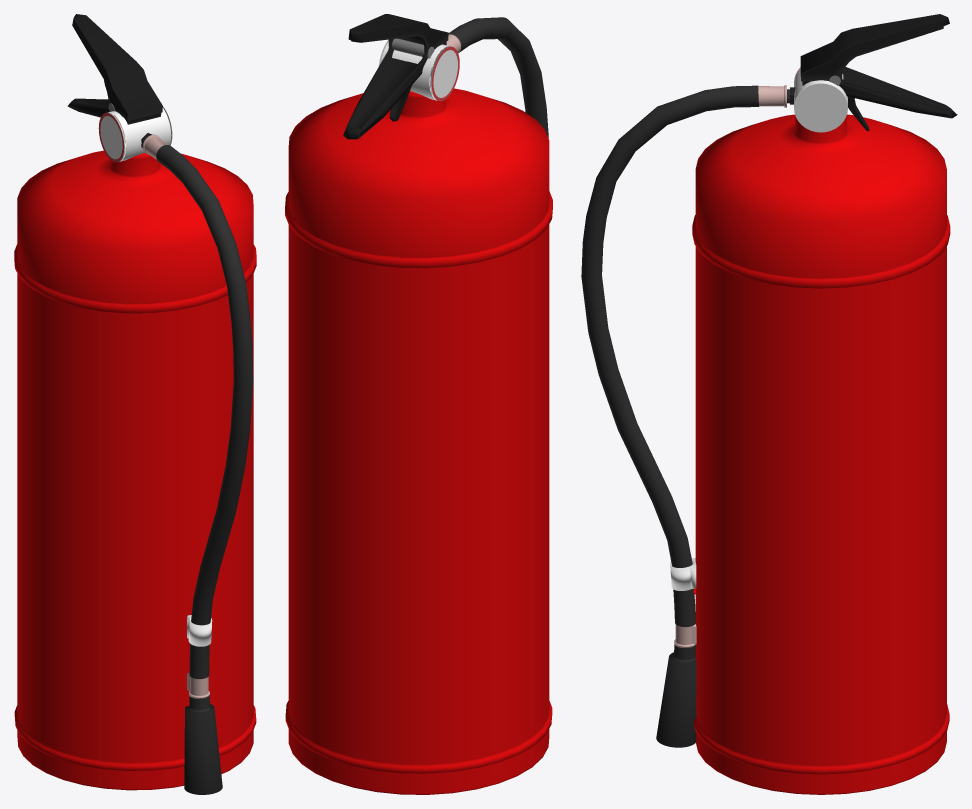
File: alat_pemadam.glb
3 renders of one model, left to right at view 1: azimuth 30°, elevation 25°; view 2: azimuth 150°, elevation 25°; view 3: azimuth 270°, elevation 25°, orthographic. The views are drawn at different scales.
Visible parts, largest first — view 1: Cylinder, Cylinder.002, Cube.001, Cylinder.001, Cylinder.004; view 2: Cylinder, Cube.001, Cylinder.002, Cylinder.004, Cylinder.001, Cylinder.003; view 3: Cylinder, Cylinder.002, Cube.001, Cylinder.005.
Part boxes in pixels (x1,y1,x2,y2): Cylinder: (14,150,256,790); Cylinder.002: (141,133,253,794); Cube.001: (67,14,162,124); Cylinder.001: (107,108,171,161); Cylinder.004: (98,113,124,162); Cylinder: (285,88,552,794); Cube.001: (343,14,448,139); Cylinder.002: (446,17,548,137); Cylinder.004: (431,46,459,101); Cylinder.001: (380,42,450,100); Cylinder.003: (388,38,434,58); Cylinder: (692,114,950,794); Cylinder.002: (581,85,795,747); Cube.001: (800,14,957,118); Cylinder.005: (794,83,847,132).
Bounding box in the file's own units: 1.49 × 4.62 × 2.17.
